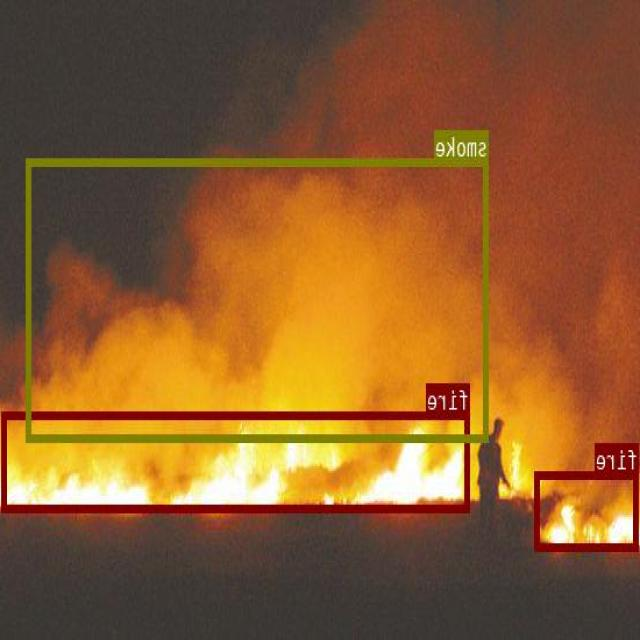fire: (3, 410, 470, 511), (535, 470, 640, 549)
smoke: (28, 158, 490, 440)
